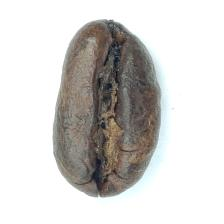NG: (83, 24, 143, 192)
